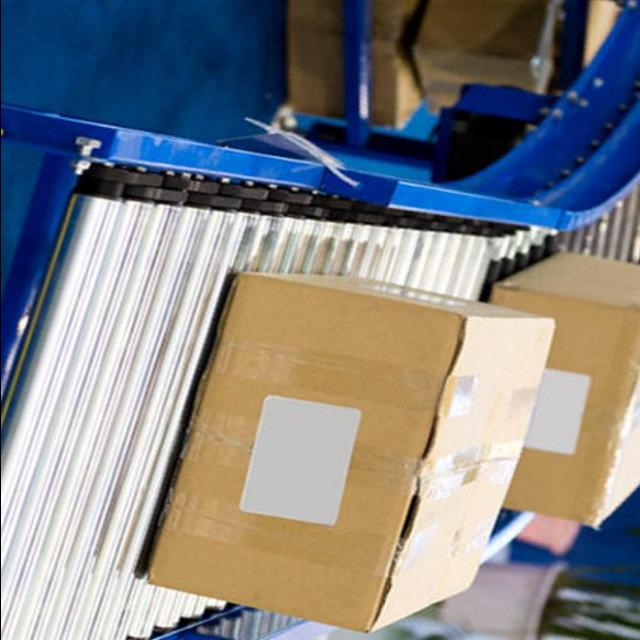food: (142, 268, 556, 634), (485, 248, 640, 532)
